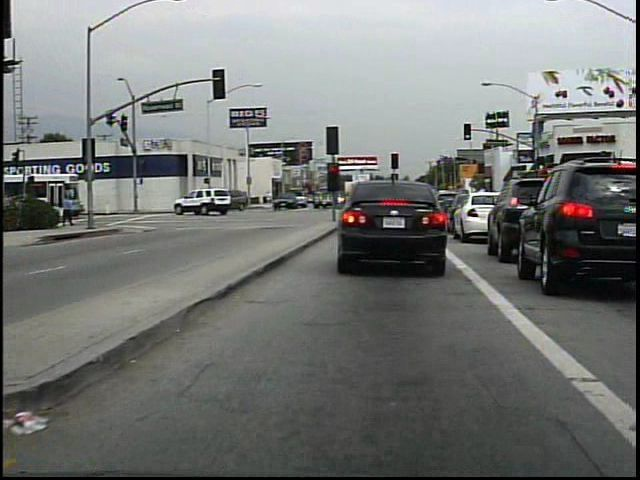person: (63, 192, 77, 229), (265, 187, 275, 209)
